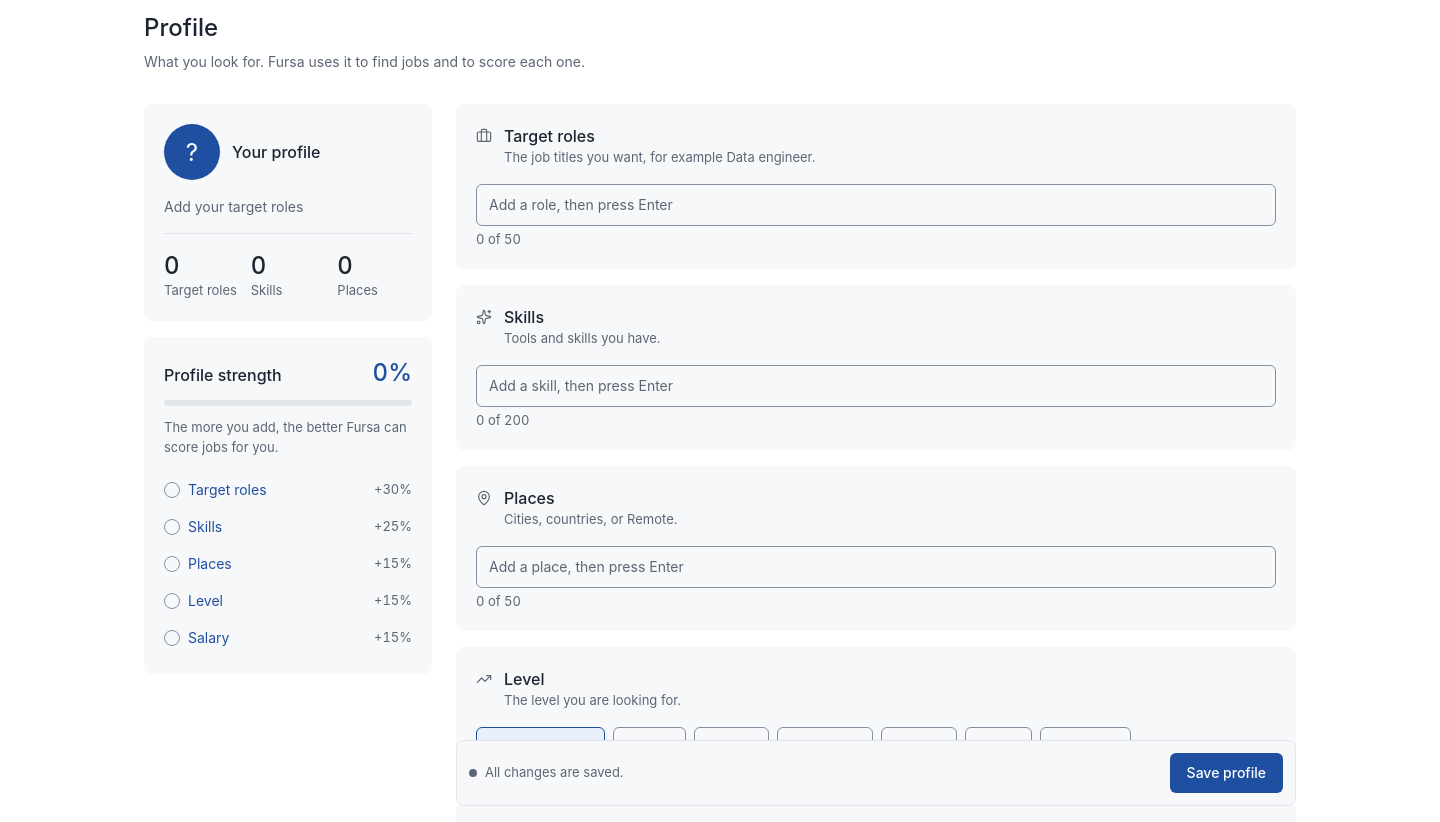
Test case: toast and retries › closes with its button
Type "Go," into the field named "Skills".
click(876, 386); type("Go,")  # box x1=481 y1=370 x2=1271 y2=402
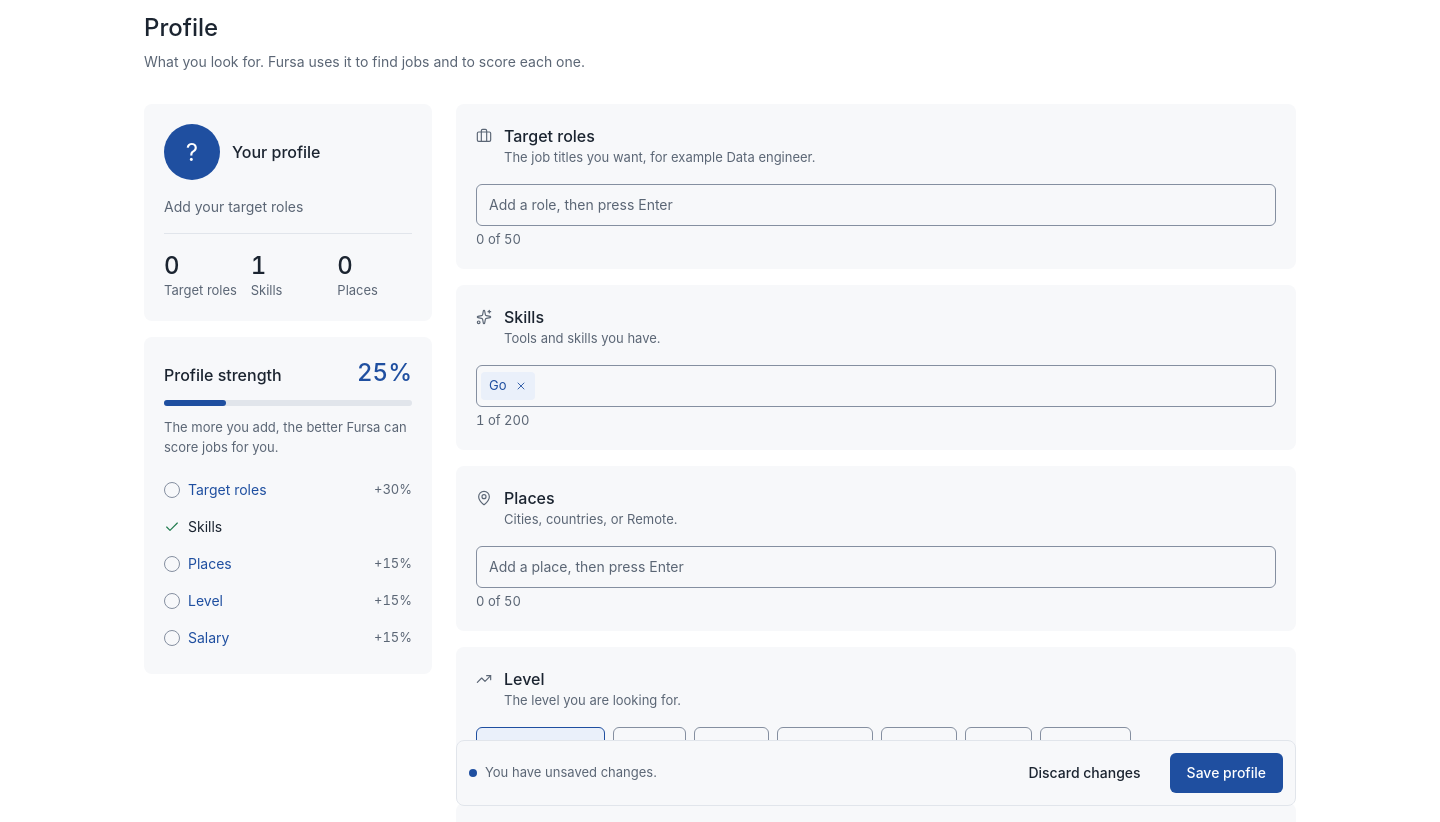
Click the button "Save profile".
click(1226, 773)  # box x1=1170 y1=753 x2=1283 y2=793
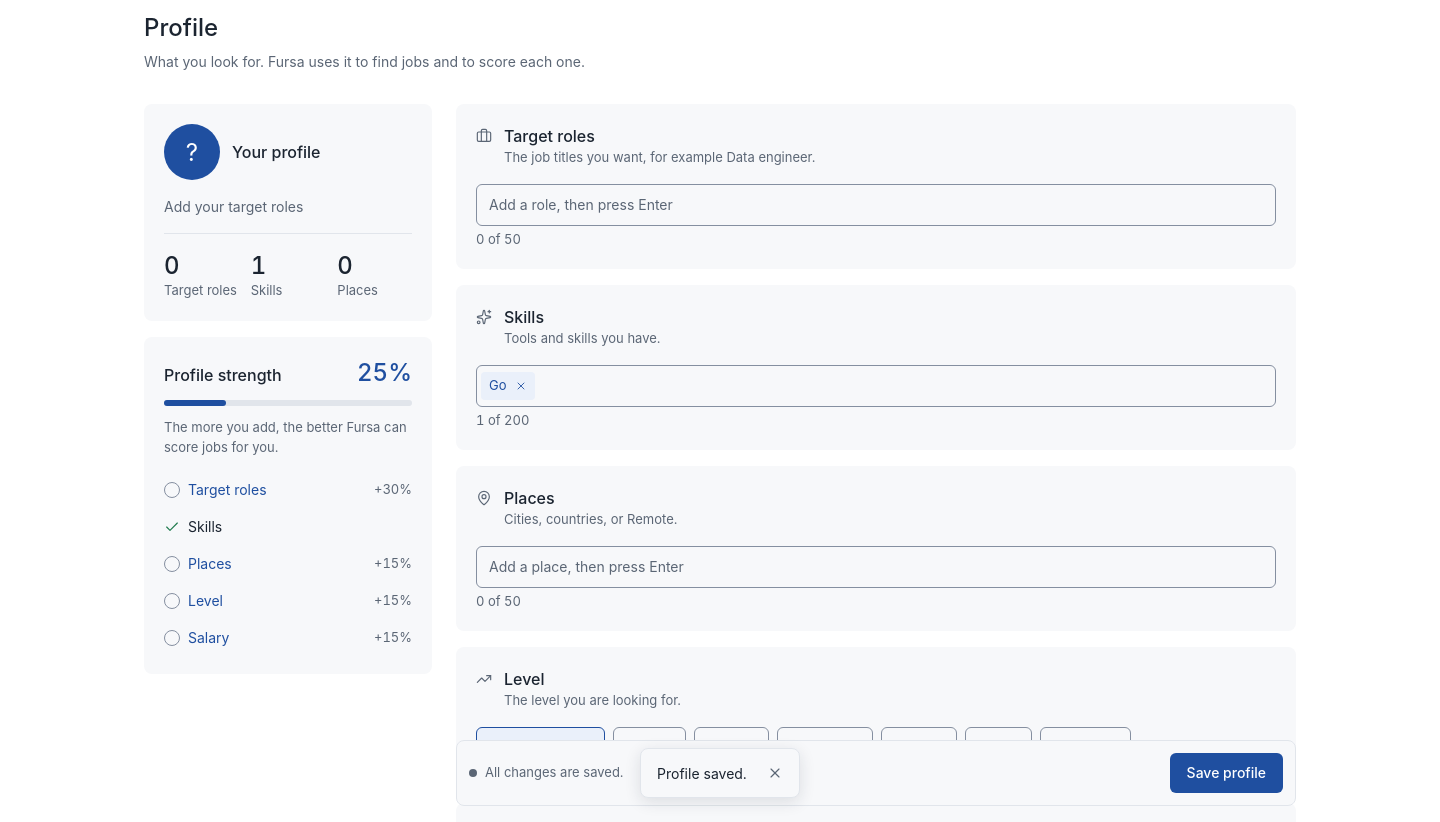
Click the button named "Close".
click(775, 773)  # box x1=759 y1=757 x2=791 y2=789
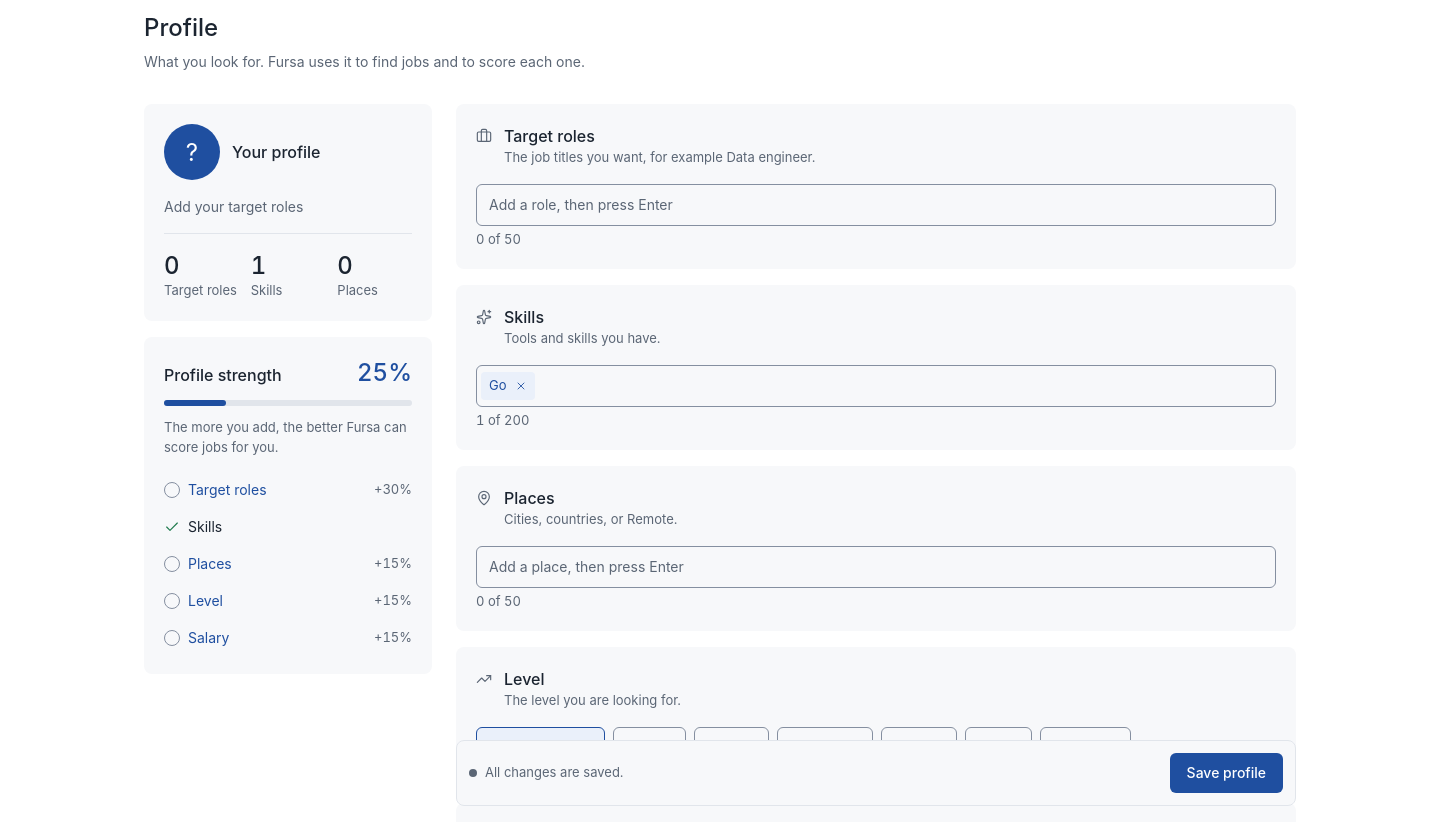
expect the text "Profile saved." is gone: met
